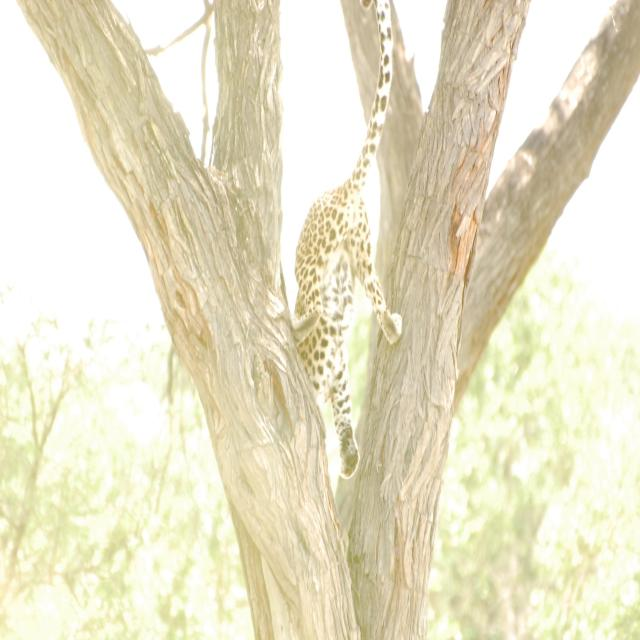Leopard: (280, 88, 430, 510)
